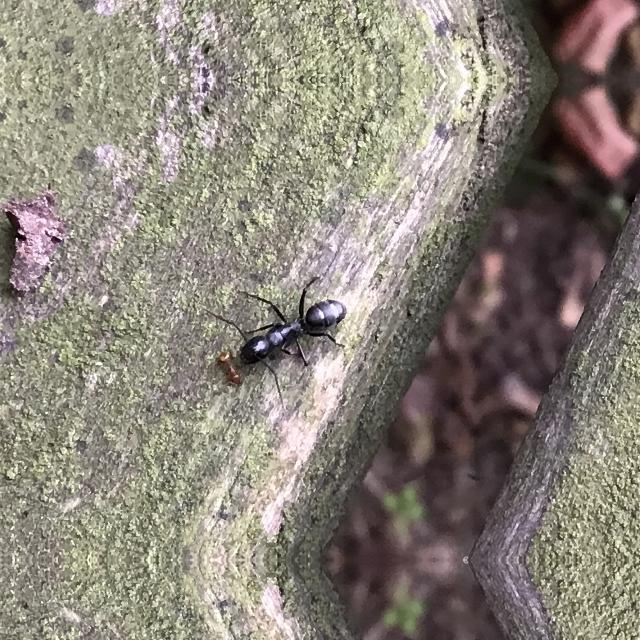Camponotus: (218, 282, 348, 370)
Temnothorax: (207, 344, 249, 391)
